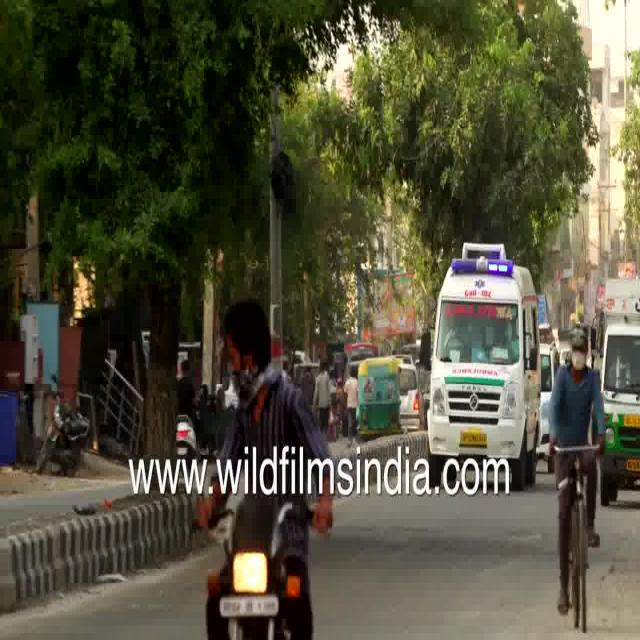ambulance: (425, 218, 538, 491)
